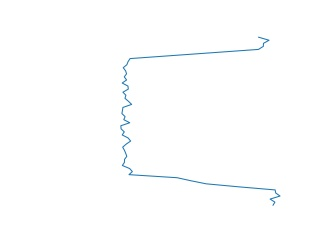distributaryChannelFill: (115, 37, 284, 207)
